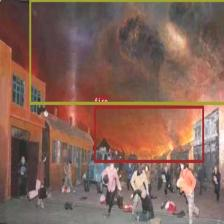fire: (94, 105, 204, 162)
smoke: (29, 0, 224, 104)
